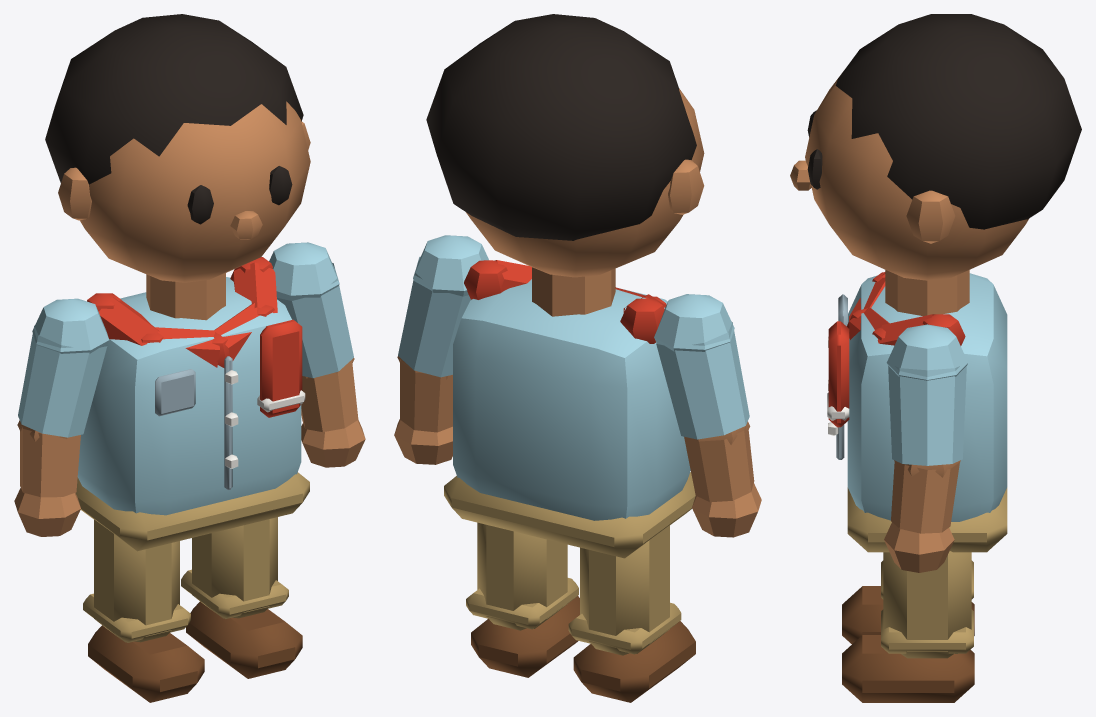
Rendered from chhotu.glb.
3 renders of one model, left to right at view 1: azimuth 30°, elevation 25°; view 2: azimuth 150°, elevation 25°; view 3: azimuth 270°, elevation 25°, orthographic. The views are drawn at different scales.
Parts seen in each view (by area): view 1: head, body, arm_r, leg_r, leg_l, arm_l; view 2: body, head, arm_r, leg_r, leg_l, arm_l; view 3: head, body, arm_l, leg_l, leg_r.
Boxes of the visible parts, <box> form: head: <box>45,14,310,282</box>; body: <box>76,257,309,551</box>; arm_r: <box>14,298,109,536</box>; leg_r: <box>83,519,204,702</box>; leg_l: <box>181,517,302,678</box>; arm_l: <box>269,242,365,467</box>; body: <box>444,260,695,558</box>; head: <box>426,14,704,277</box>; arm_r: <box>654,294,761,537</box>; leg_r: <box>568,525,695,702</box>; leg_l: <box>466,522,579,677</box>; arm_l: <box>394,235,488,464</box>; head: <box>790,14,1081,280</box>; body: <box>827,270,1007,552</box>; arm_l: <box>884,324,968,572</box>; leg_l: <box>842,551,974,702</box>; leg_r: <box>842,560,974,643</box>.
Bounding box in the file's own units: 0.598 × 1.04 × 0.429.
1 material, 1 textured.
